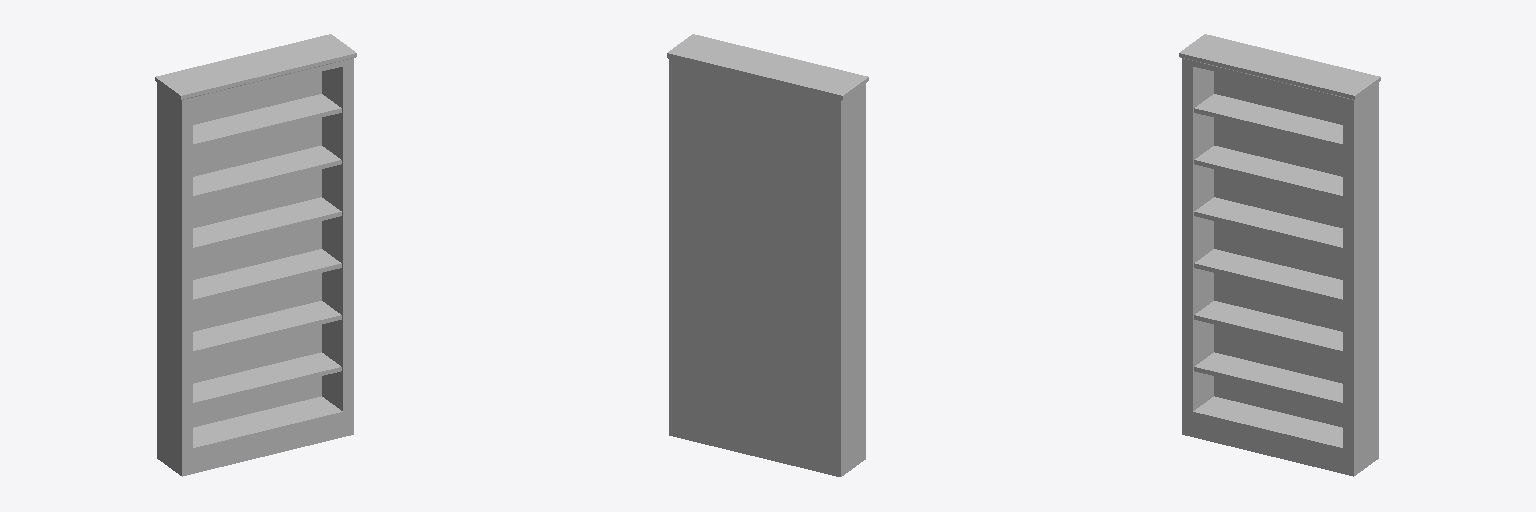
Rendered from Shelf_01.obj.
3 renders of one model, left to right at view 1: azimuth 30°, elevation 25°; view 2: azimuth 150°, elevation 25°; view 3: azimuth 330°, elevation 25°, orthographic.
Visible parts, largest first — view 1: Main_Cabinet_low_Cube.001, Shelf_004_low_Cube.068, Shelf_005_low_Cube.069, Shelf_003_low_Cube.067, Shelf_006_low_Cube.065, Shelf_002_low_Cube.066, Shelf_001_low_Cube.000; view 2: Main_Cabinet_low_Cube.001; view 3: Main_Cabinet_low_Cube.001, Shelf_004_low_Cube.068, Shelf_005_low_Cube.069, Shelf_003_low_Cube.067, Shelf_006_low_Cube.065, Shelf_002_low_Cube.066, Shelf_001_low_Cube.000.
Boxes of the visible parts, x1,y1,x2,y2 form: Main_Cabinet_low_Cube.001: [155, 34, 356, 476]; Shelf_004_low_Cube.068: [193, 249, 341, 303]; Shelf_005_low_Cube.069: [193, 301, 341, 355]; Shelf_003_low_Cube.067: [193, 197, 341, 251]; Shelf_006_low_Cube.065: [193, 94, 341, 148]; Shelf_002_low_Cube.066: [193, 146, 341, 200]; Shelf_001_low_Cube.000: [193, 352, 341, 406]; Main_Cabinet_low_Cube.001: [667, 34, 868, 476]; Main_Cabinet_low_Cube.001: [1179, 34, 1380, 476]; Shelf_004_low_Cube.068: [1194, 249, 1342, 303]; Shelf_005_low_Cube.069: [1194, 301, 1342, 355]; Shelf_003_low_Cube.067: [1194, 197, 1342, 251]; Shelf_006_low_Cube.065: [1194, 94, 1342, 148]; Shelf_002_low_Cube.066: [1194, 146, 1342, 200]; Shelf_001_low_Cube.000: [1194, 352, 1342, 406].
Size of the model in its own units: 1 by 2.08 by 0.257.